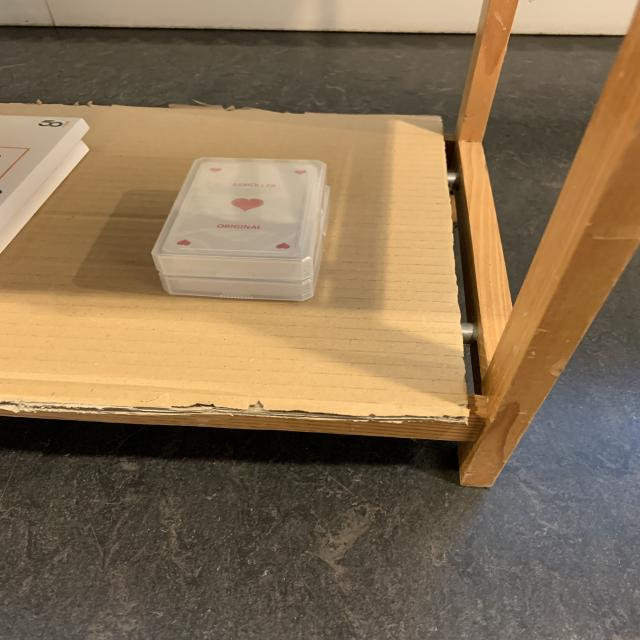Jasskarte: (151, 157, 326, 281), (159, 272, 315, 301)
